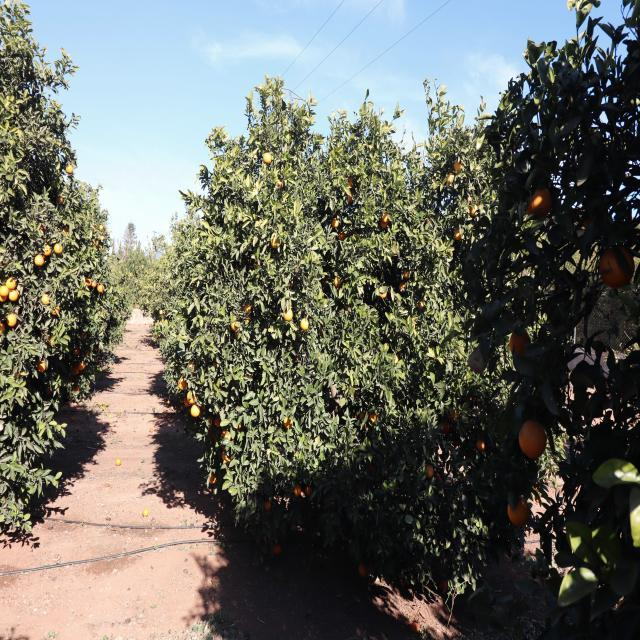Jeruk Sudah Matang: (598, 244, 636, 288), (518, 419, 548, 459), (526, 184, 554, 219), (507, 493, 531, 529), (510, 326, 532, 360), (438, 418, 452, 435), (282, 412, 295, 429), (290, 482, 302, 498), (449, 408, 462, 422), (36, 357, 48, 372), (270, 232, 281, 248), (360, 562, 370, 578), (263, 152, 274, 166), (283, 308, 294, 322), (453, 227, 464, 241), (424, 464, 434, 479), (6, 314, 18, 326), (369, 410, 378, 426), (187, 390, 198, 403), (6, 276, 16, 290), (178, 376, 188, 390), (190, 404, 200, 418), (222, 430, 232, 444), (470, 203, 480, 217), (241, 302, 252, 314), (35, 254, 45, 267), (262, 499, 272, 512), (346, 176, 356, 189), (390, 354, 400, 367), (245, 368, 254, 382), (359, 408, 368, 422), (49, 336, 60, 347), (54, 242, 64, 254), (238, 420, 248, 432), (300, 318, 310, 330), (230, 318, 240, 330), (306, 484, 316, 496), (348, 410, 358, 422), (378, 286, 388, 298), (454, 160, 464, 172), (435, 471, 443, 486), (9, 289, 18, 302), (41, 328, 50, 341), (12, 366, 20, 380), (184, 394, 192, 408), (334, 275, 342, 289), (0, 285, 9, 297), (41, 293, 50, 305), (43, 243, 51, 256), (477, 439, 485, 452), (51, 304, 60, 315), (338, 230, 346, 242), (332, 216, 340, 228), (347, 192, 355, 204), (382, 210, 390, 222), (448, 173, 456, 185), (61, 228, 70, 238), (214, 417, 223, 427), (380, 220, 389, 230), (66, 163, 74, 174), (56, 193, 64, 204), (208, 472, 216, 483), (222, 450, 230, 461), (404, 268, 412, 279), (188, 360, 195, 372), (215, 405, 222, 417), (0, 292, 8, 302), (73, 345, 81, 355), (80, 330, 88, 340), (96, 344, 104, 354), (224, 460, 232, 470), (234, 330, 242, 340), (276, 180, 284, 190), (399, 282, 407, 292), (0, 322, 5, 337), (72, 383, 80, 392), (392, 244, 398, 256), (468, 194, 476, 203), (40, 223, 47, 233), (419, 299, 426, 309), (535, 494, 542, 504), (534, 482, 541, 492), (91, 279, 98, 288), (85, 277, 92, 286), (4, 257, 11, 266), (98, 283, 104, 293), (206, 417, 212, 427), (78, 362, 85, 370), (72, 368, 80, 375), (85, 349, 92, 356), (66, 376, 72, 384), (246, 313, 250, 325), (198, 407, 203, 416), (72, 242, 78, 249), (158, 309, 164, 315), (100, 234, 105, 241), (99, 223, 104, 230), (93, 223, 98, 229), (101, 310, 105, 317), (95, 240, 99, 246), (90, 239, 94, 244), (180, 397, 184, 402), (165, 311, 168, 317), (100, 245, 103, 250), (162, 320, 165, 324)
